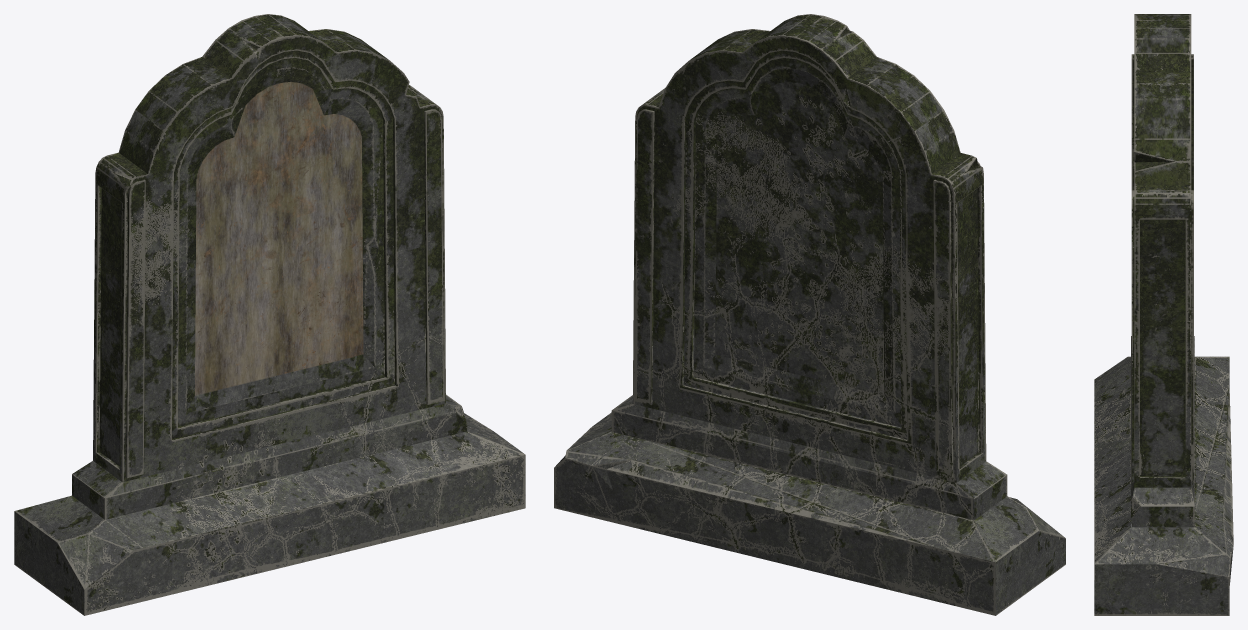
Rendered from gravestone_04.fbx.
The picture shows the model from 3 angles, left to right: view 1: azimuth 30°, elevation 25°; view 2: azimuth 150°, elevation 25°; view 3: azimuth 270°, elevation 25°; orthographic projection. The views are drawn at different scales.
Parts seen in each view (by area): view 1: grave_stone_04.001; view 2: grave_stone_04.001; view 3: grave_stone_04.001.
Part boxes in pixels (left/top/right/bottom): grave_stone_04.001: left=14, top=14, right=525, bottom=615; grave_stone_04.001: left=554, top=14, right=1065, bottom=615; grave_stone_04.001: left=1094, top=14, right=1233, bottom=615.
Size of the model in its own units: 85.81 by 94.64 by 24.3.
Materials: 1 (1 with a texture image).
